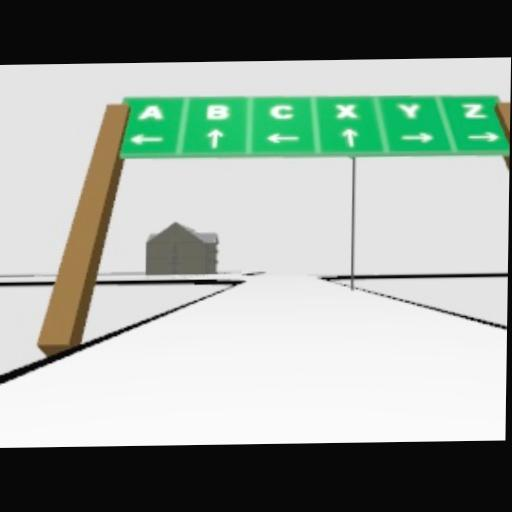A: (136, 102, 164, 119)
B: (205, 101, 229, 118)
C: (270, 102, 293, 118)
Left: (128, 132, 162, 144), (264, 132, 299, 142)
Right: (402, 131, 433, 141), (468, 130, 498, 140)
Straight: (339, 125, 359, 146), (205, 127, 223, 148)
X: (334, 101, 357, 117)
Y: (397, 101, 420, 117)
Z: (461, 100, 485, 116)
